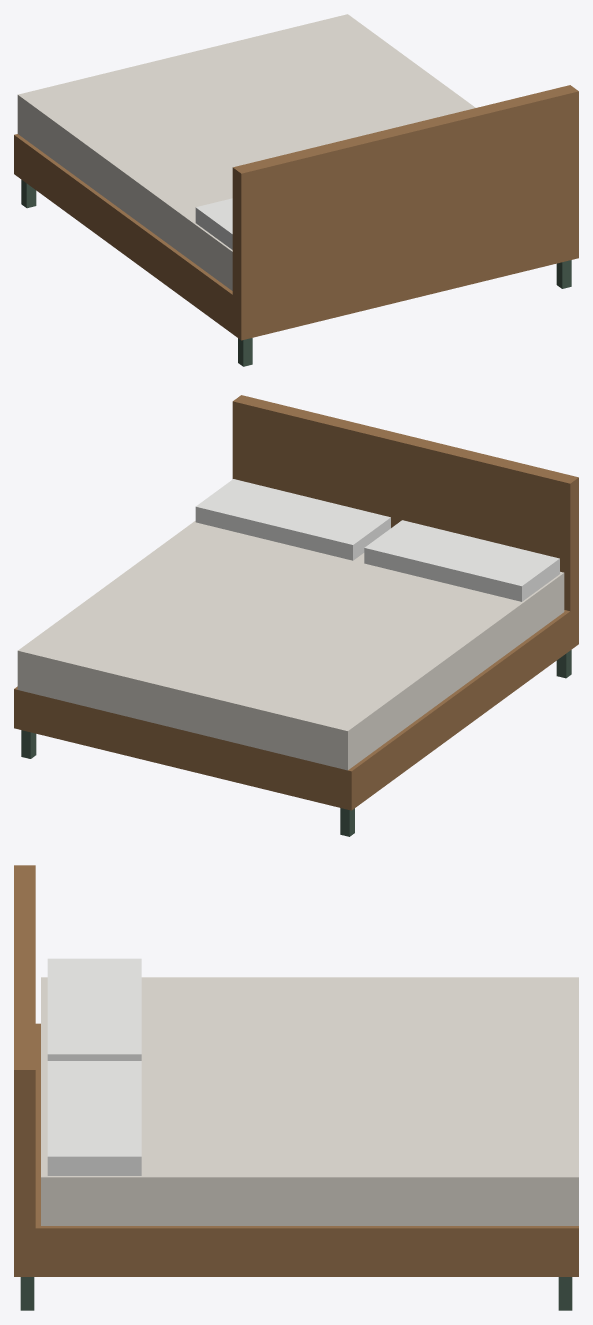
3 views of the same model, one above another, from view 1: azimuth 30°, elevation 25°; view 2: azimuth 150°, elevation 25°; view 3: azimuth 270°, elevation 25° (orthographic). The views are drawn at different scales.
Visible parts, largest first — view 1: headboard, mattress, frame, pillow-0; view 2: mattress, headboard, frame, pillow-0, pillow-1; view 3: mattress, frame, pillow-1, pillow-0, headboard.
Boxes of the visible parts, box(x1,y1,x2,y2) form: headboard: box(232, 85, 578, 339); mattress: box(17, 14, 475, 290); frame: box(14, 134, 578, 340); pillow-0: box(195, 198, 232, 249); mattress: box(17, 521, 564, 770); headboard: box(232, 395, 578, 644); frame: box(14, 605, 578, 810); pillow-0: box(364, 520, 559, 601); pillow-1: box(195, 479, 390, 560); mattress: box(41, 977, 578, 1225); frame: box(14, 1023, 578, 1276); pillow-1: box(47, 1061, 141, 1175); pillow-0: box(47, 958, 141, 1060); headboard: box(14, 865, 35, 1276).
Size of the model in its own units: 1.8 by 1 by 2.1.
